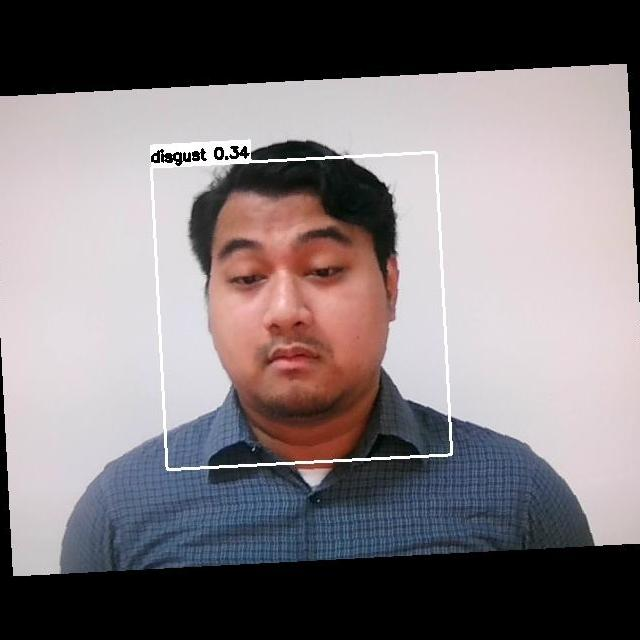Fear: (195, 214, 399, 381)
